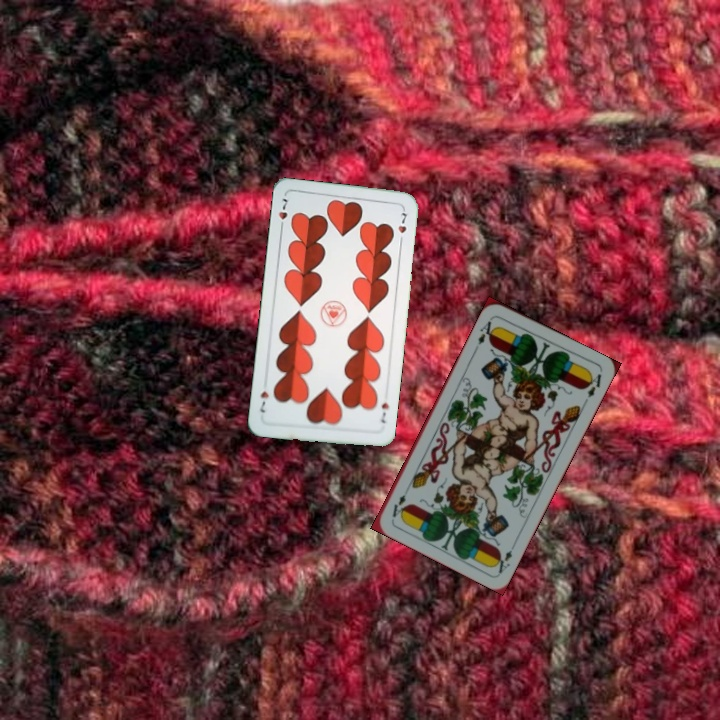EA: (490, 538, 519, 576), (474, 314, 498, 347)
H7: (274, 193, 290, 233), (377, 398, 391, 426)
